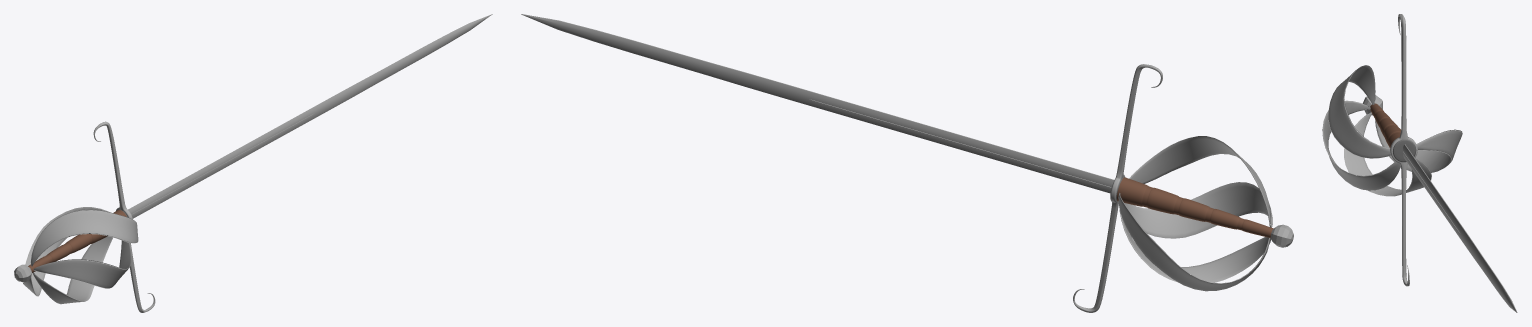
File: RapierAttack.fbx
3 views of the same model, side by side, from view 1: azimuth 30°, elevation 25°; view 2: azimuth 150°, elevation 25°; view 3: azimuth 270°, elevation 25° (orthographic). The views are drawn at different scales.
Parts seen in each view (by area): view 1: pCylinder2; view 2: pCylinder2; view 3: pCylinder2.
Boxes of the visible parts, x1=… form: pCylinder2: x1=14, y1=14, x2=492, y2=312; pCylinder2: x1=521, y1=14, x2=1293, y2=312; pCylinder2: x1=1322, y1=14, x2=1517, y2=312.
Bounding box in the file's own units: 2.87 × 1.03 × 0.7479.
